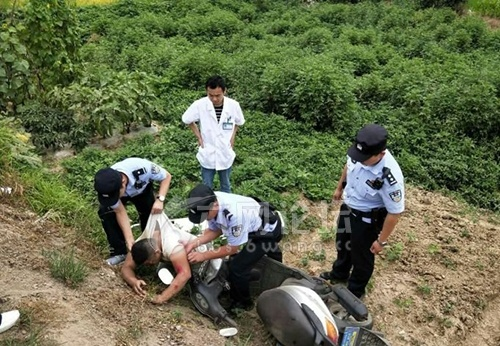falling: (112, 214, 232, 314)
